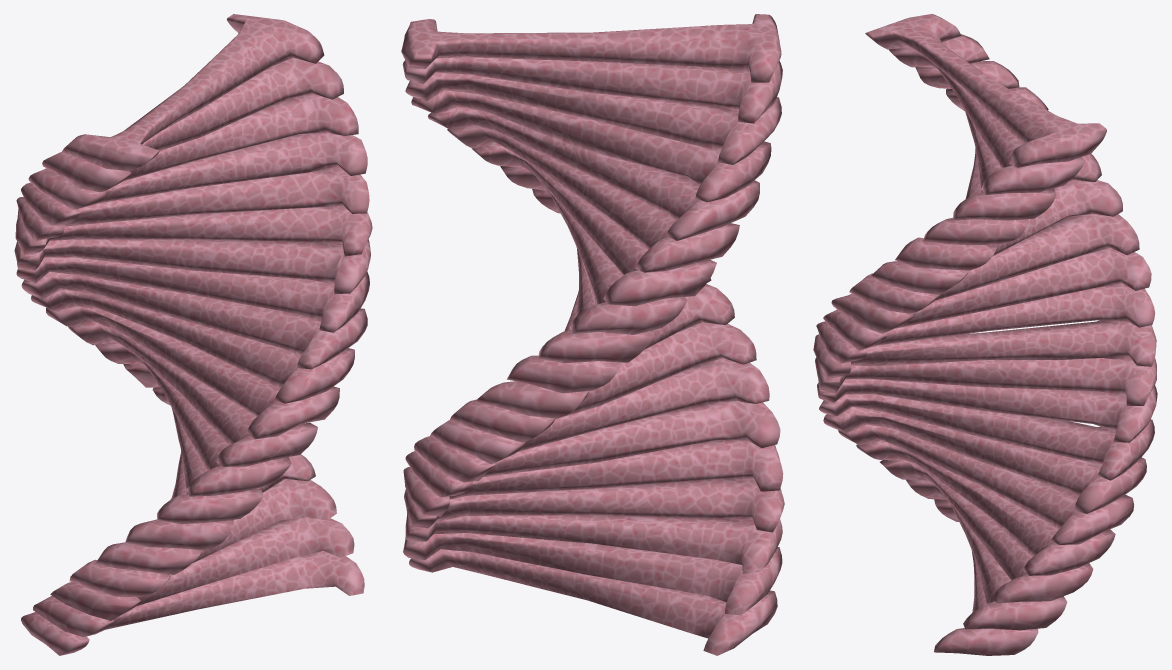
File: DNA.fbx
3 views of the same model, side by side, from view 1: azimuth 30°, elevation 25°; view 2: azimuth 150°, elevation 25°; view 3: azimuth 270°, elevation 25° (orthographic). The views are drawn at different scales.
Parts seen in each view (by area): view 1: DNA_MESH; view 2: DNA_MESH; view 3: DNA_MESH.
Boxes of the visible parts, x1,y1,x2,y2 form: DNA_MESH: (14,14,372,655); DNA_MESH: (401,14,784,655); DNA_MESH: (813,14,1157,655).
Bounding box in the file's own units: 240 × 394 × 240.
